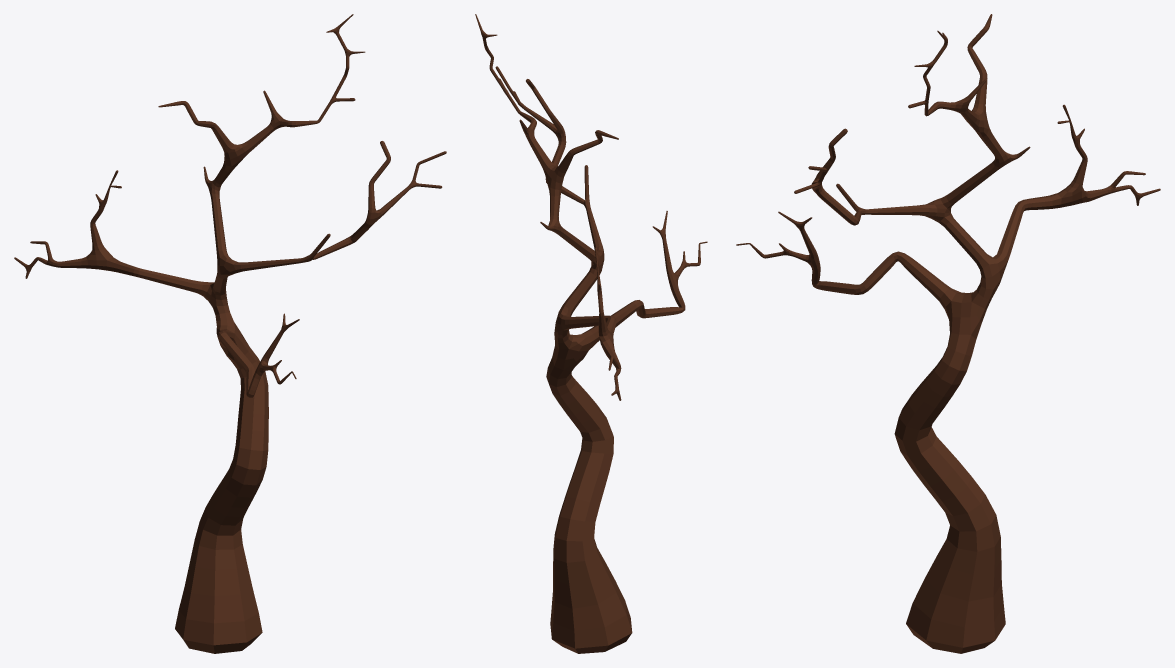
Rendered from FH DryTree2.fbx.
The picture shows the model from 3 angles, left to right: view 1: azimuth 30°, elevation 25°; view 2: azimuth 150°, elevation 25°; view 3: azimuth 270°, elevation 25°; orthographic projection. The views are drawn at different scales.
Visible parts, largest first — view 1: DryTree2; view 2: DryTree2; view 3: DryTree2.
Part boxes in pixels (<box>): DryTree2: <box>14,14,446,653</box>; DryTree2: <box>475,14,707,653</box>; DryTree2: <box>736,14,1160,653</box>.
Size of the model in its own units: 1621 by 3405 by 1929.
